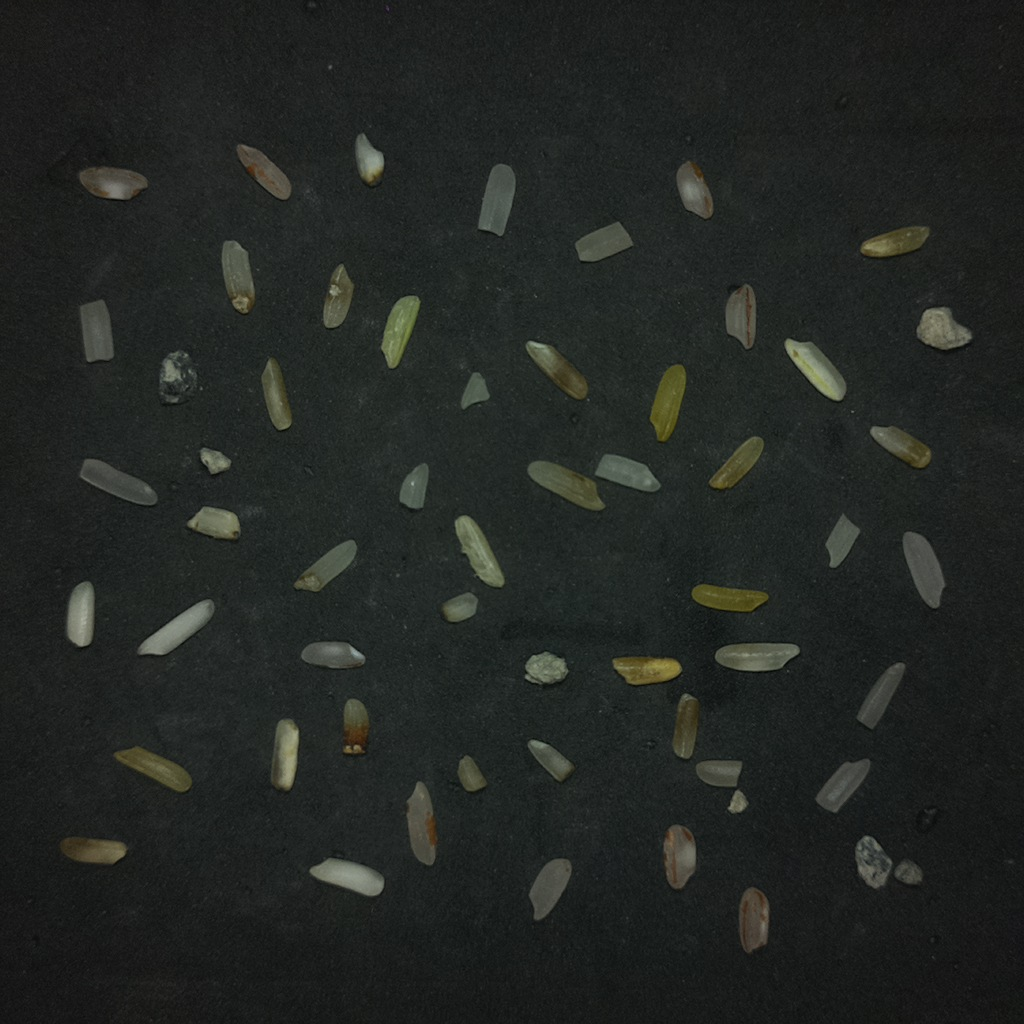broken: (815, 759, 870, 812), (529, 858, 571, 920), (595, 454, 660, 492), (575, 221, 633, 262), (79, 300, 113, 362), (825, 514, 860, 567), (300, 642, 364, 668), (399, 463, 428, 509), (695, 760, 741, 787), (460, 372, 490, 410), (457, 755, 486, 792), (199, 448, 231, 475)
chalky: (137, 599, 214, 655), (784, 339, 846, 401), (309, 858, 384, 896), (66, 581, 94, 647)
damaged: (454, 515, 504, 587), (293, 540, 356, 591), (221, 241, 254, 313), (270, 719, 299, 791), (527, 739, 574, 781), (322, 264, 353, 327), (672, 693, 699, 758), (188, 506, 239, 540), (354, 133, 384, 185), (343, 698, 369, 754), (441, 592, 477, 622)
discolored: (527, 460, 604, 510), (525, 340, 587, 399), (114, 746, 191, 792), (381, 295, 421, 369), (709, 435, 763, 488), (649, 364, 686, 441), (869, 426, 931, 468), (261, 357, 291, 430), (860, 226, 929, 257), (691, 584, 768, 611), (612, 656, 680, 685), (59, 836, 126, 864)
foreign: (917, 307, 971, 348), (855, 835, 890, 886), (160, 352, 193, 402), (526, 653, 566, 683), (895, 859, 921, 884), (727, 789, 748, 813)
red: (236, 144, 291, 199), (406, 781, 437, 866), (78, 166, 147, 200), (663, 824, 696, 889), (676, 161, 713, 218), (725, 284, 755, 349), (739, 887, 768, 953)
whole: (79, 458, 157, 505), (903, 531, 944, 608), (858, 662, 904, 728), (477, 163, 515, 236), (715, 642, 799, 671)
